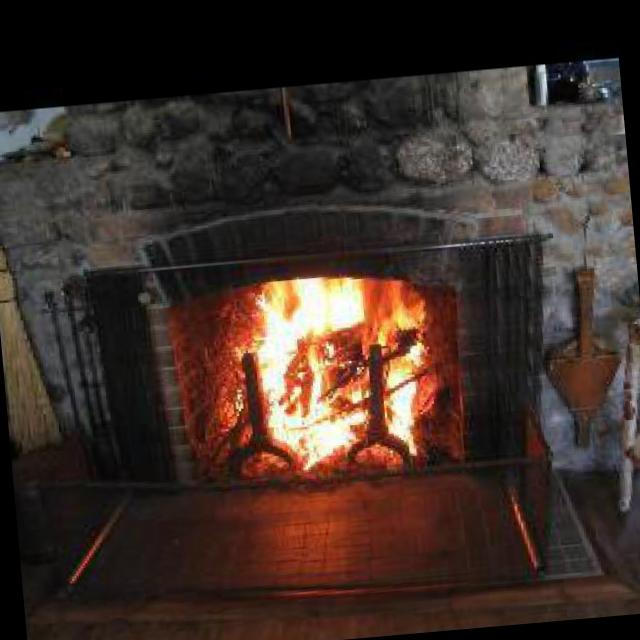fire: (214, 268, 446, 477)
